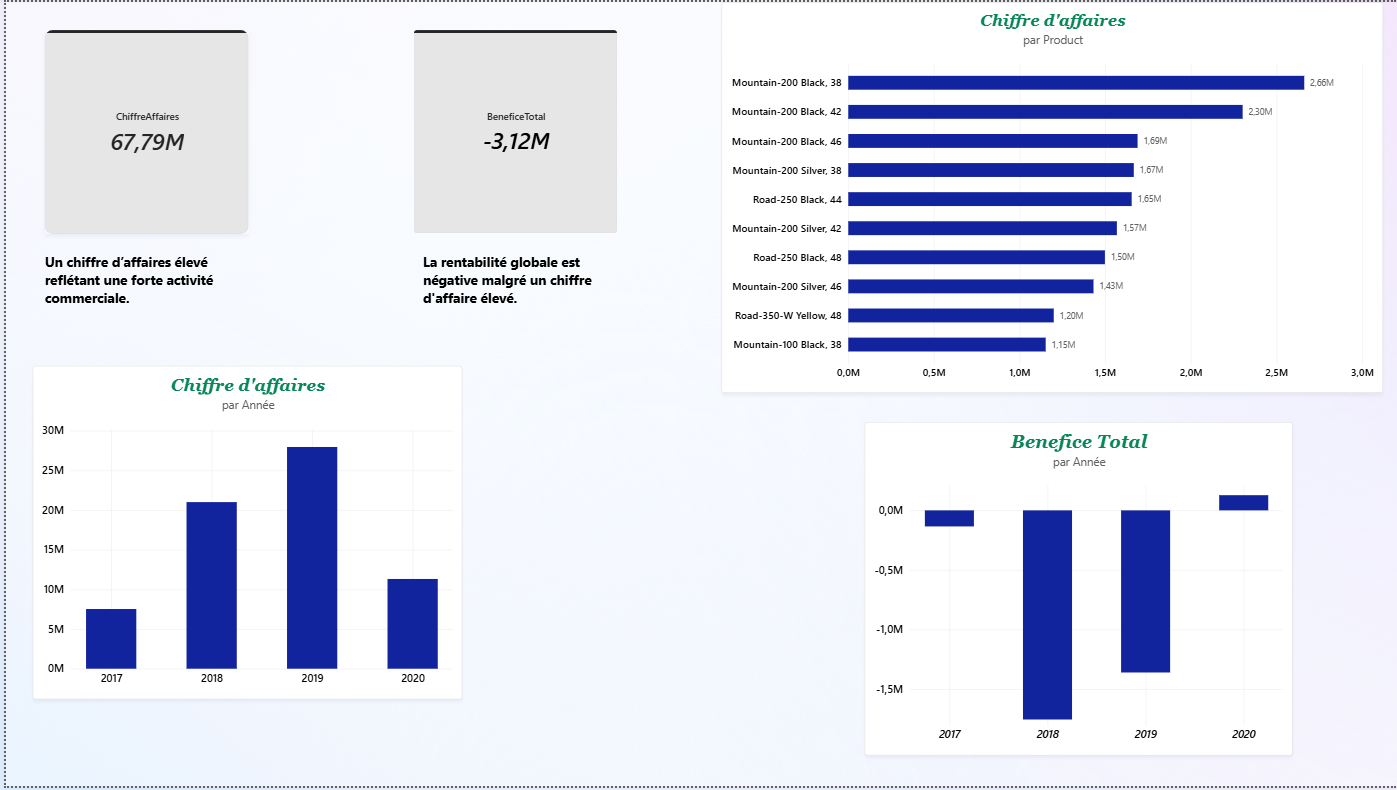

What the dashboard file says about the page in this screenshot:
{"tool":"powerbi","page":{"name":"Page 2","canvas":[1920,1080],"ordinal":1},"visuals":[{"type":"clusteredColumnChart","title":"Chiffre d''affaires","fields":{"Category":["Calendrier.Année"],"Y":["Sales.ChiffreAffaires"]},"box":[130,40,592.5,460],"z":4000},{"type":"clusteredColumnChart","title":"Benefice Total","fields":{"Category":["Calendrier.Année"],"Y":["Sales.BeneficeTotal"]},"box":[1185,40,590,460],"z":5000},{"type":"barChart","title":"Chiffre d''affaires","fields":{"Category":["Product.Product"],"Y":["Sales.ChiffreAffaires"]},"box":[517.5,517.5,1132.5,562.5],"z":6000},{"type":"cardVisual","fields":{"Data":["Sales.ChiffreAffaires"]},"box":[130,567.5,280,280],"z":6001},{"type":"cardVisual","fields":{"Data":["Sales.BeneficeTotal"]},"box":[820,97.5,280,280],"z":6002}]}

Visuals, with their boxes in screenshot pixels (x1, y1, x2, y2), scaled from the page's 1920x1080 canvas onto the 1397x790 screenshot:
"Chiffre d''affaires" clusteredColumnChart: [95,29,526,366]
"Benefice Total" clusteredColumnChart: [862,29,1291,366]
"Chiffre d''affaires" barChart: [377,379,1201,789]
cardVisual - Sales.ChiffreAffaires: [95,415,298,620]
cardVisual - Sales.BeneficeTotal: [597,71,800,276]
